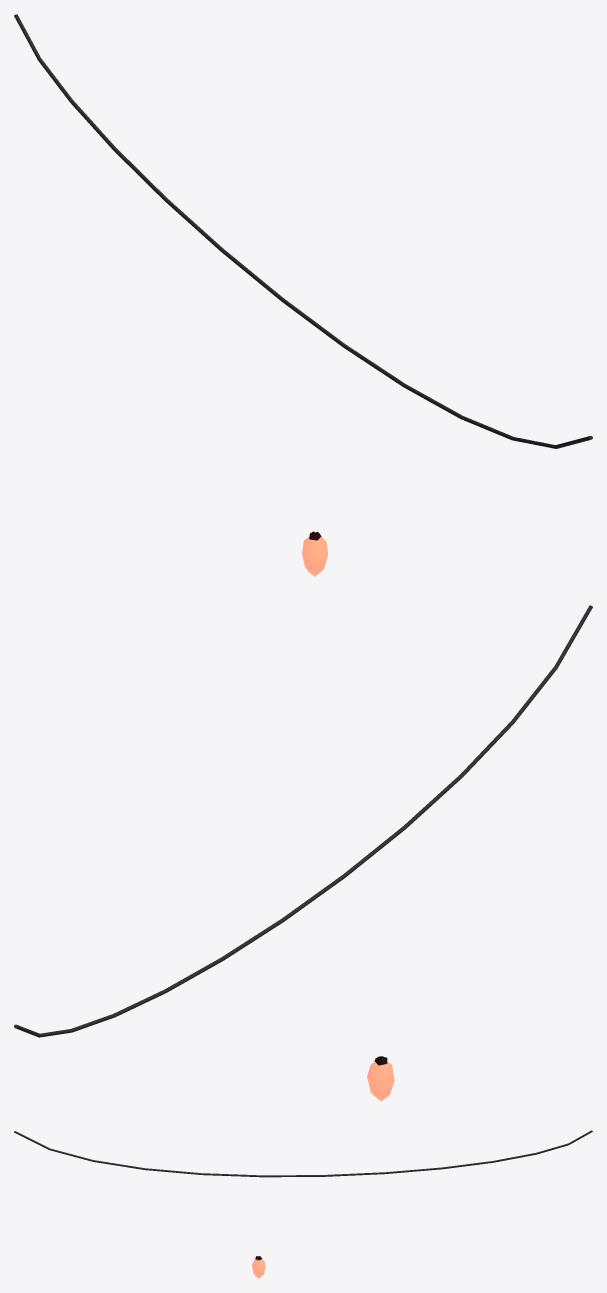
Rendered from tira_luces.glb.
3 renders of one model, top to bottom at view 1: azimuth 30°, elevation 25°; view 2: azimuth 150°, elevation 25°; view 3: azimuth 270°, elevation 25°, orthographic. The views are drawn at different scales.
Parts seen in each view (by area): view 1: Curva_Bezier.002, Esfera.085; view 2: Curva_Bezier.002, Esfera.085; view 3: Curva_Bezier.002, Esfera.085.
Part boxes in pixels (bbox=[...]): Curva_Bezier.002: bbox=[14, 14, 592, 448]; Esfera.085: bbox=[302, 531, 327, 576]; Curva_Bezier.002: bbox=[14, 605, 592, 1037]; Esfera.085: bbox=[367, 1056, 394, 1101]; Curva_Bezier.002: bbox=[14, 1130, 592, 1177]; Esfera.085: bbox=[252, 1256, 265, 1278].
Bounding box in the file's own units: 1.35 × 8.52 × 28.6.
